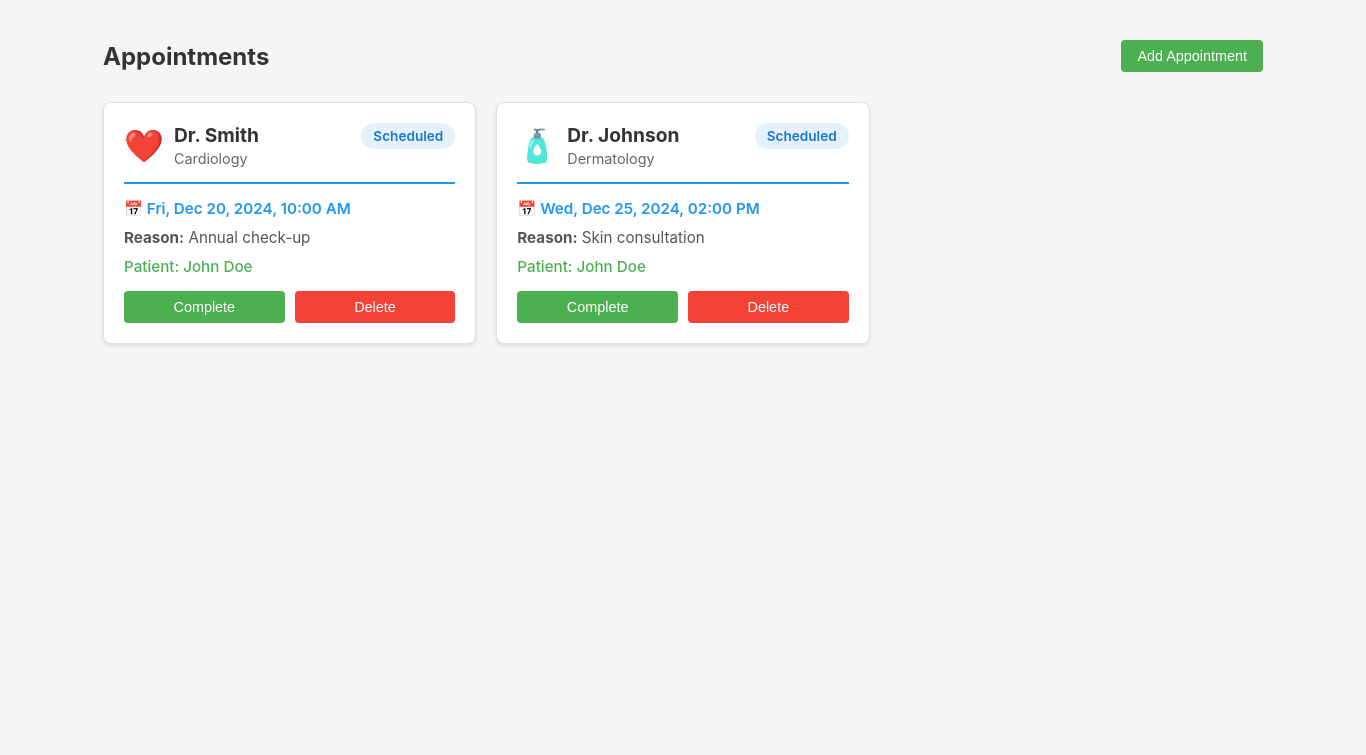
Test: AppointmentsPage Component › should show form when add appointment button clicked
The width and height of the screenshot is (1366, 755).
Check: the heading "Dr. Smith" is shown, box [174,123,259,147]
What coordinates should you click on to do the following:
click the button "Add Appointment"
I would click on:
 (1192, 56)
Its box is [1121,40,1263,72].
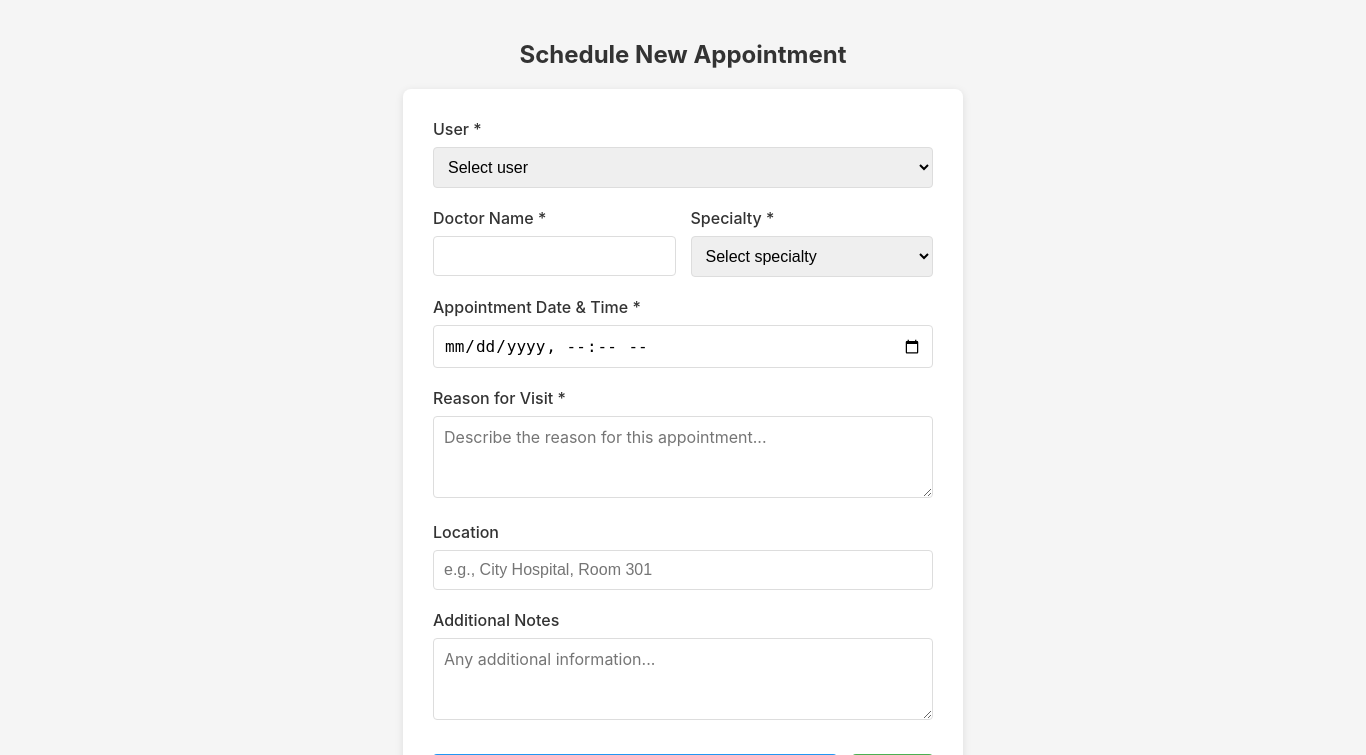
Check: the dropdown labelled "User *" is shown, box [433,147,933,188]
Check: the field labelled "Doctor Name *" is shown, box [433,236,676,276]
